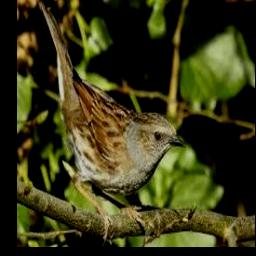Sparrow: (40, 4, 186, 243)
